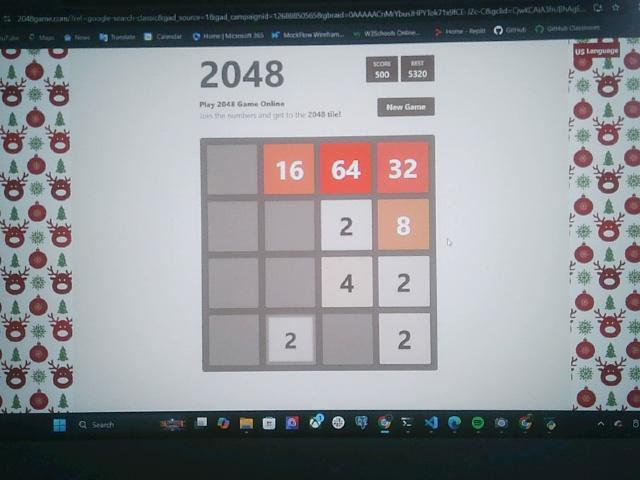best_score_box: (402, 56, 435, 81)
board: (202, 136, 437, 368)
button: (378, 97, 435, 115)
score_box: (366, 56, 398, 81)
tile: (320, 142, 373, 196), (264, 143, 316, 195), (378, 140, 429, 193), (379, 313, 431, 364), (378, 257, 430, 308), (322, 199, 373, 250), (379, 199, 430, 249), (322, 257, 374, 306), (267, 315, 317, 363)
